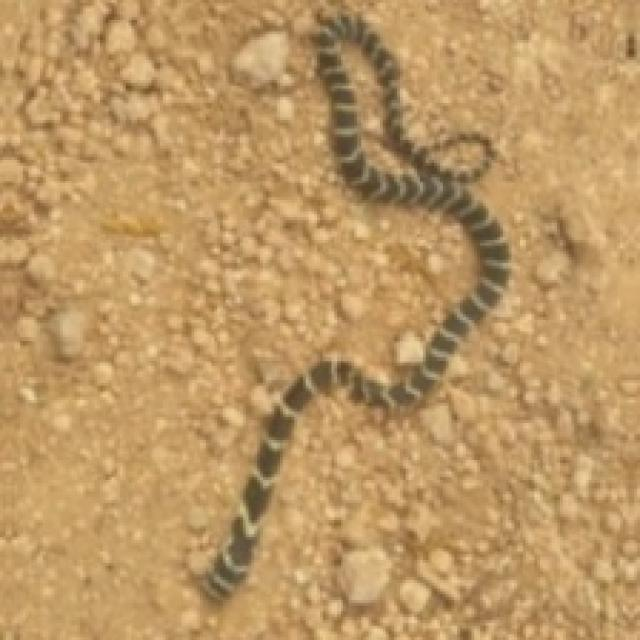king cobra: (203, 14, 509, 597)
